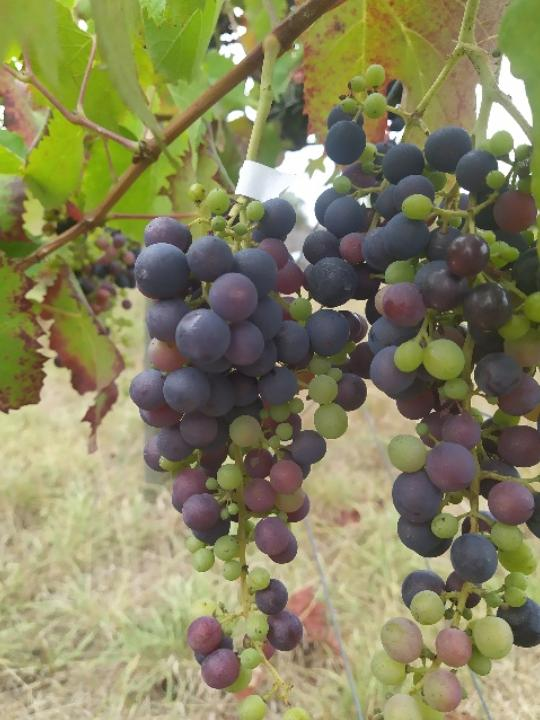grape: (299, 59, 540, 720), (126, 181, 370, 720)
